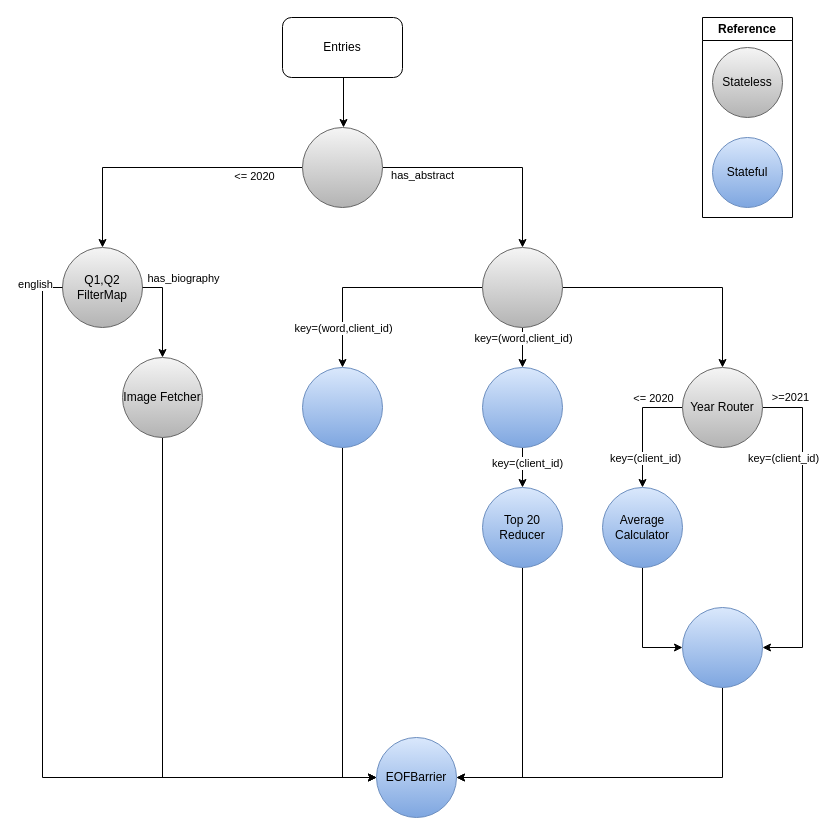
Some shapes in this 836 by 835 pixel diagram are drawn without their labels. The centre of each missing label's shape, as x and y in pixels:
"Abstract Tokenizer" goes at (x=522, y=287).
"Entry Router" goes at (x=342, y=167).
"Intersection Aggregator" goes at (x=342, y=407).
"Q5 Filter" goes at (x=722, y=647).
"Word Fequency Aggregator" goes at (x=522, y=407).
